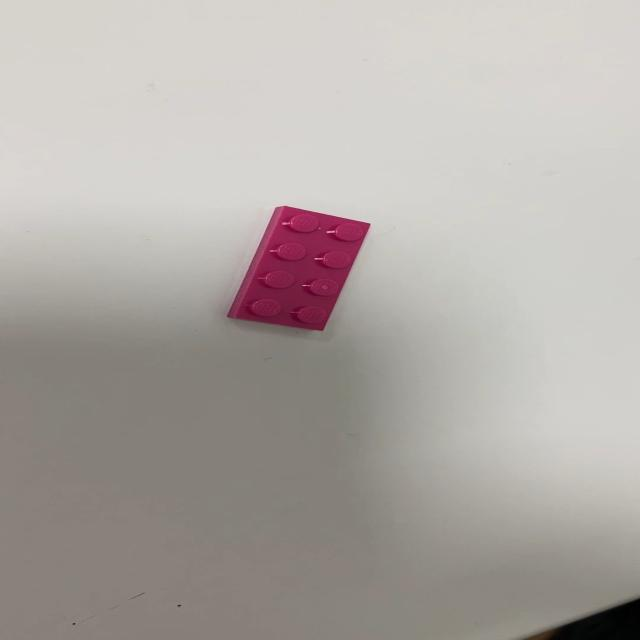C4x2x0: (225, 205, 372, 332)
